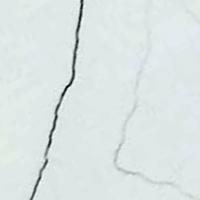crack: (32, 0, 102, 199)
